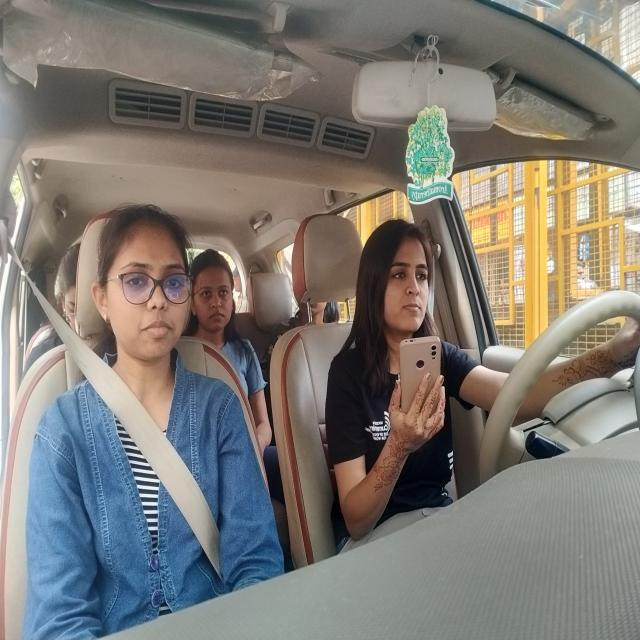mobile: (389, 320, 446, 430)
person: (101, 202, 196, 367), (363, 214, 449, 356), (198, 248, 246, 366), (46, 225, 86, 338)
